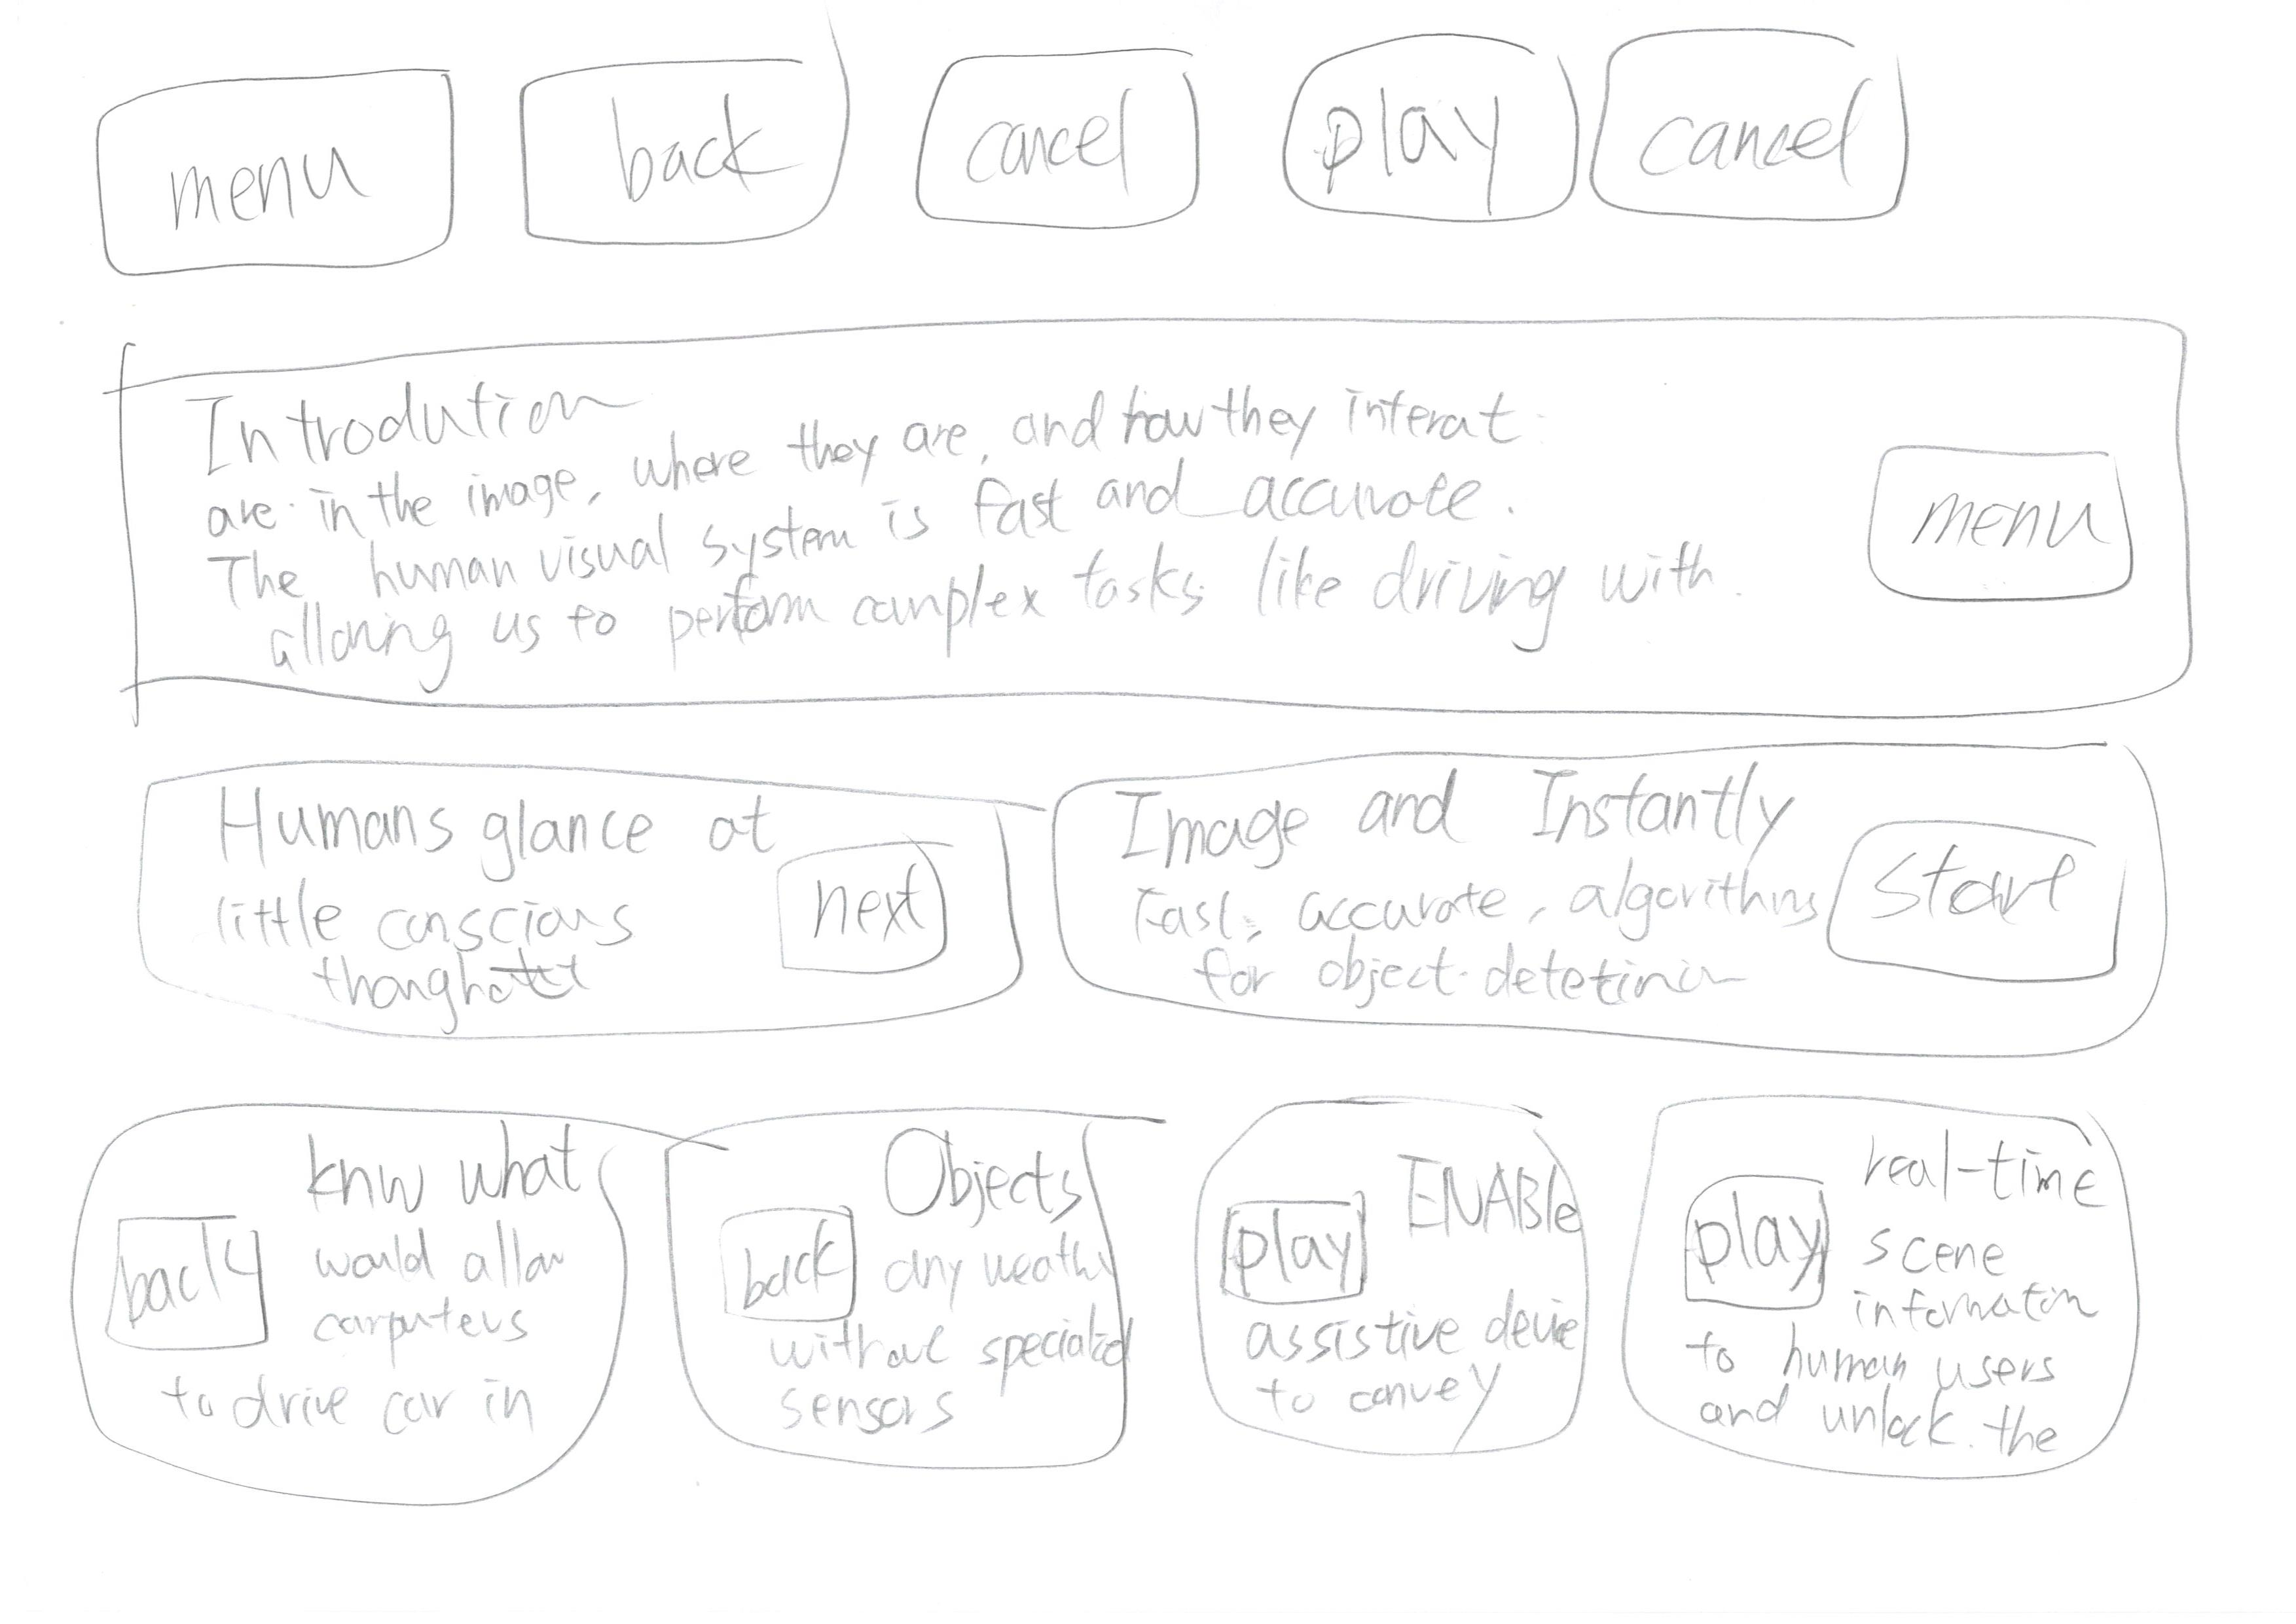back: (485, 25, 891, 271), (79, 1171, 287, 1378), (707, 1178, 865, 1327)
cancel: (900, 11, 1222, 260)
double: (1028, 703, 2245, 1051), (100, 731, 1034, 1076)
menu: (58, 49, 490, 302), (1837, 424, 2161, 642)
next: (752, 833, 976, 988)
play: (1259, 19, 1614, 251), (1658, 1142, 1849, 1320), (1210, 1165, 1401, 1313)
quadruple: (35, 1076, 670, 1564), (1609, 1062, 2166, 1548), (633, 1086, 1148, 1561), (1144, 1062, 1623, 1550)
row: (5, 1046, 2296, 1554), (49, 267, 2296, 743), (28, 696, 2296, 1104), (32, 7, 2289, 281)
single: (93, 283, 2296, 759)
small-title: (1113, 770, 1765, 877), (227, 777, 777, 877), (207, 376, 624, 464), (295, 1113, 571, 1222), (1375, 1139, 1565, 1250), (881, 1128, 1083, 1227), (1878, 1123, 2089, 1206)
start: (1816, 794, 2150, 1023)
text: (213, 418, 1693, 657), (1125, 868, 1806, 1016), (199, 861, 682, 1028), (297, 1222, 575, 1480), (1872, 1223, 2097, 1452), (747, 1301, 1104, 1429), (1693, 1322, 2062, 1432), (881, 1227, 1104, 1396), (1261, 1301, 1547, 1425), (156, 1364, 550, 1439)
